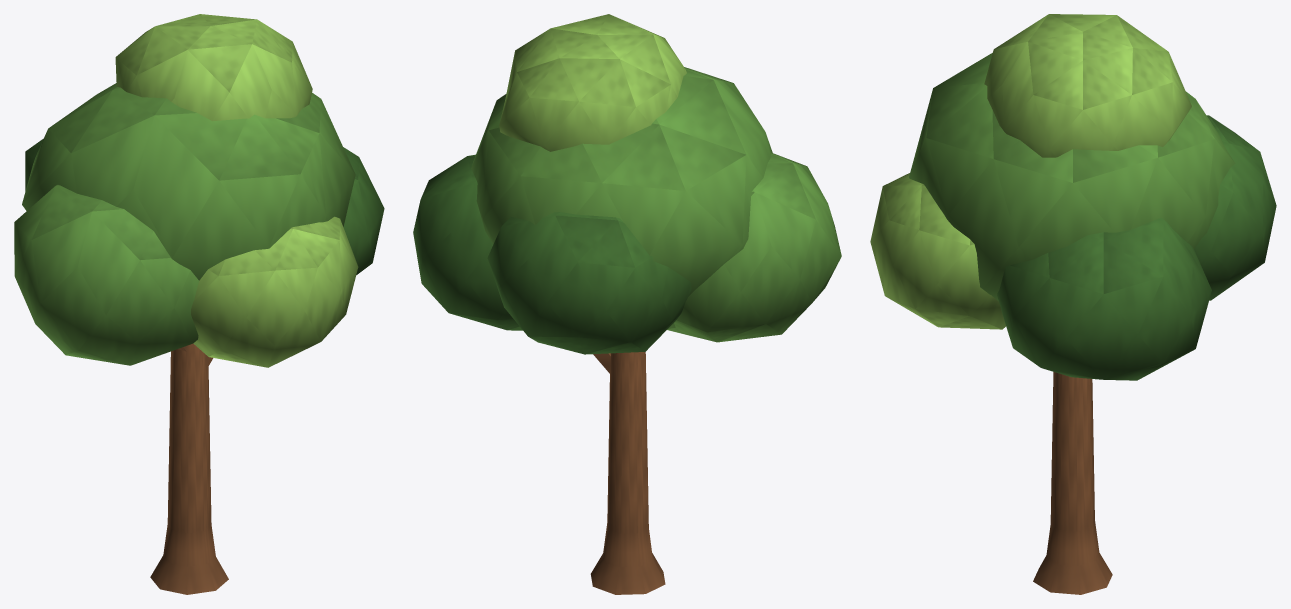
The model's file is tree_round_01.glb.
The picture shows the model from 3 angles, left to right: view 1: azimuth 30°, elevation 25°; view 2: azimuth 150°, elevation 25°; view 3: azimuth 270°, elevation 25°; orthographic projection. The views are drawn at different scales.
Visible parts, largest first — view 1: tree_round_01; view 2: tree_round_01; view 3: tree_round_01.
Boxes of the visible parts, x1,y1,x2,y2 form: tree_round_01: (14,14,384,594); tree_round_01: (413,14,841,594); tree_round_01: (870,14,1276,594).
Size of the model in its own units: 4.32 by 6 by 3.95.
1 material, 1 textured.
